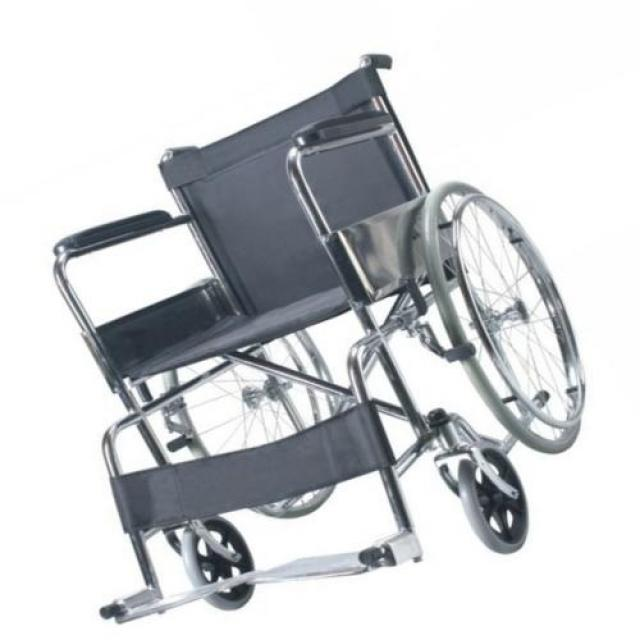wheelchair: (46, 31, 601, 625)
